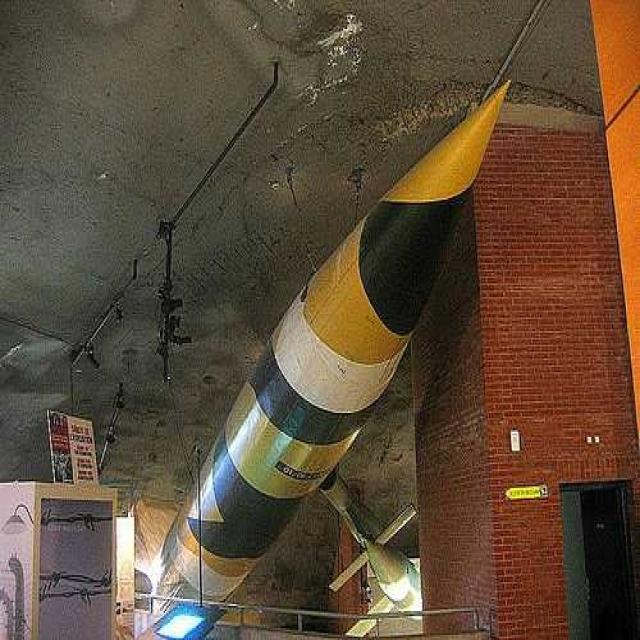missile: (150, 78, 512, 631)
